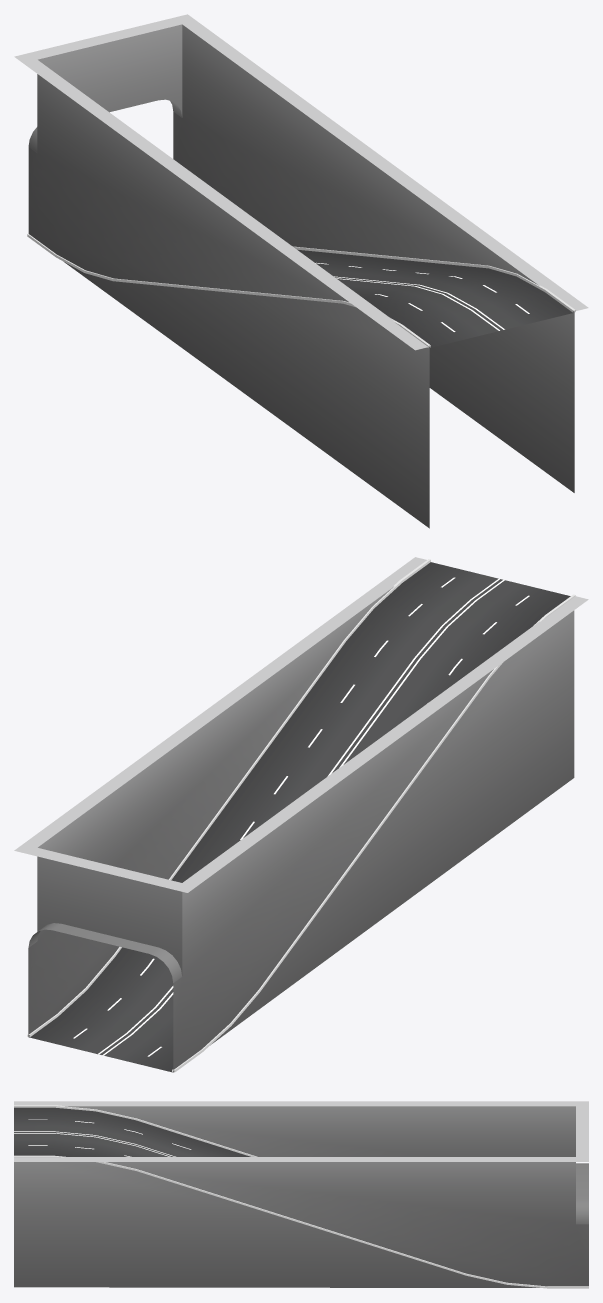
Rendered from road_016.glb.
3 views of the same model, one above another, from view 1: azimuth 30°, elevation 25°; view 2: azimuth 150°, elevation 25°; view 3: azimuth 270°, elevation 25° (orthographic). The views are drawn at different scales.
Visible parts, largest first — view 1: road_016; view 2: road_016; view 3: road_016.
Part boxes in pixels (<box>): road_016: <box>14,14,588,528</box>; road_016: <box>14,557,588,1072</box>; road_016: <box>14,1101,588,1288</box>.
Bounding box in the file's own units: 15 × 15.2 × 60.
1 material, 1 textured.
